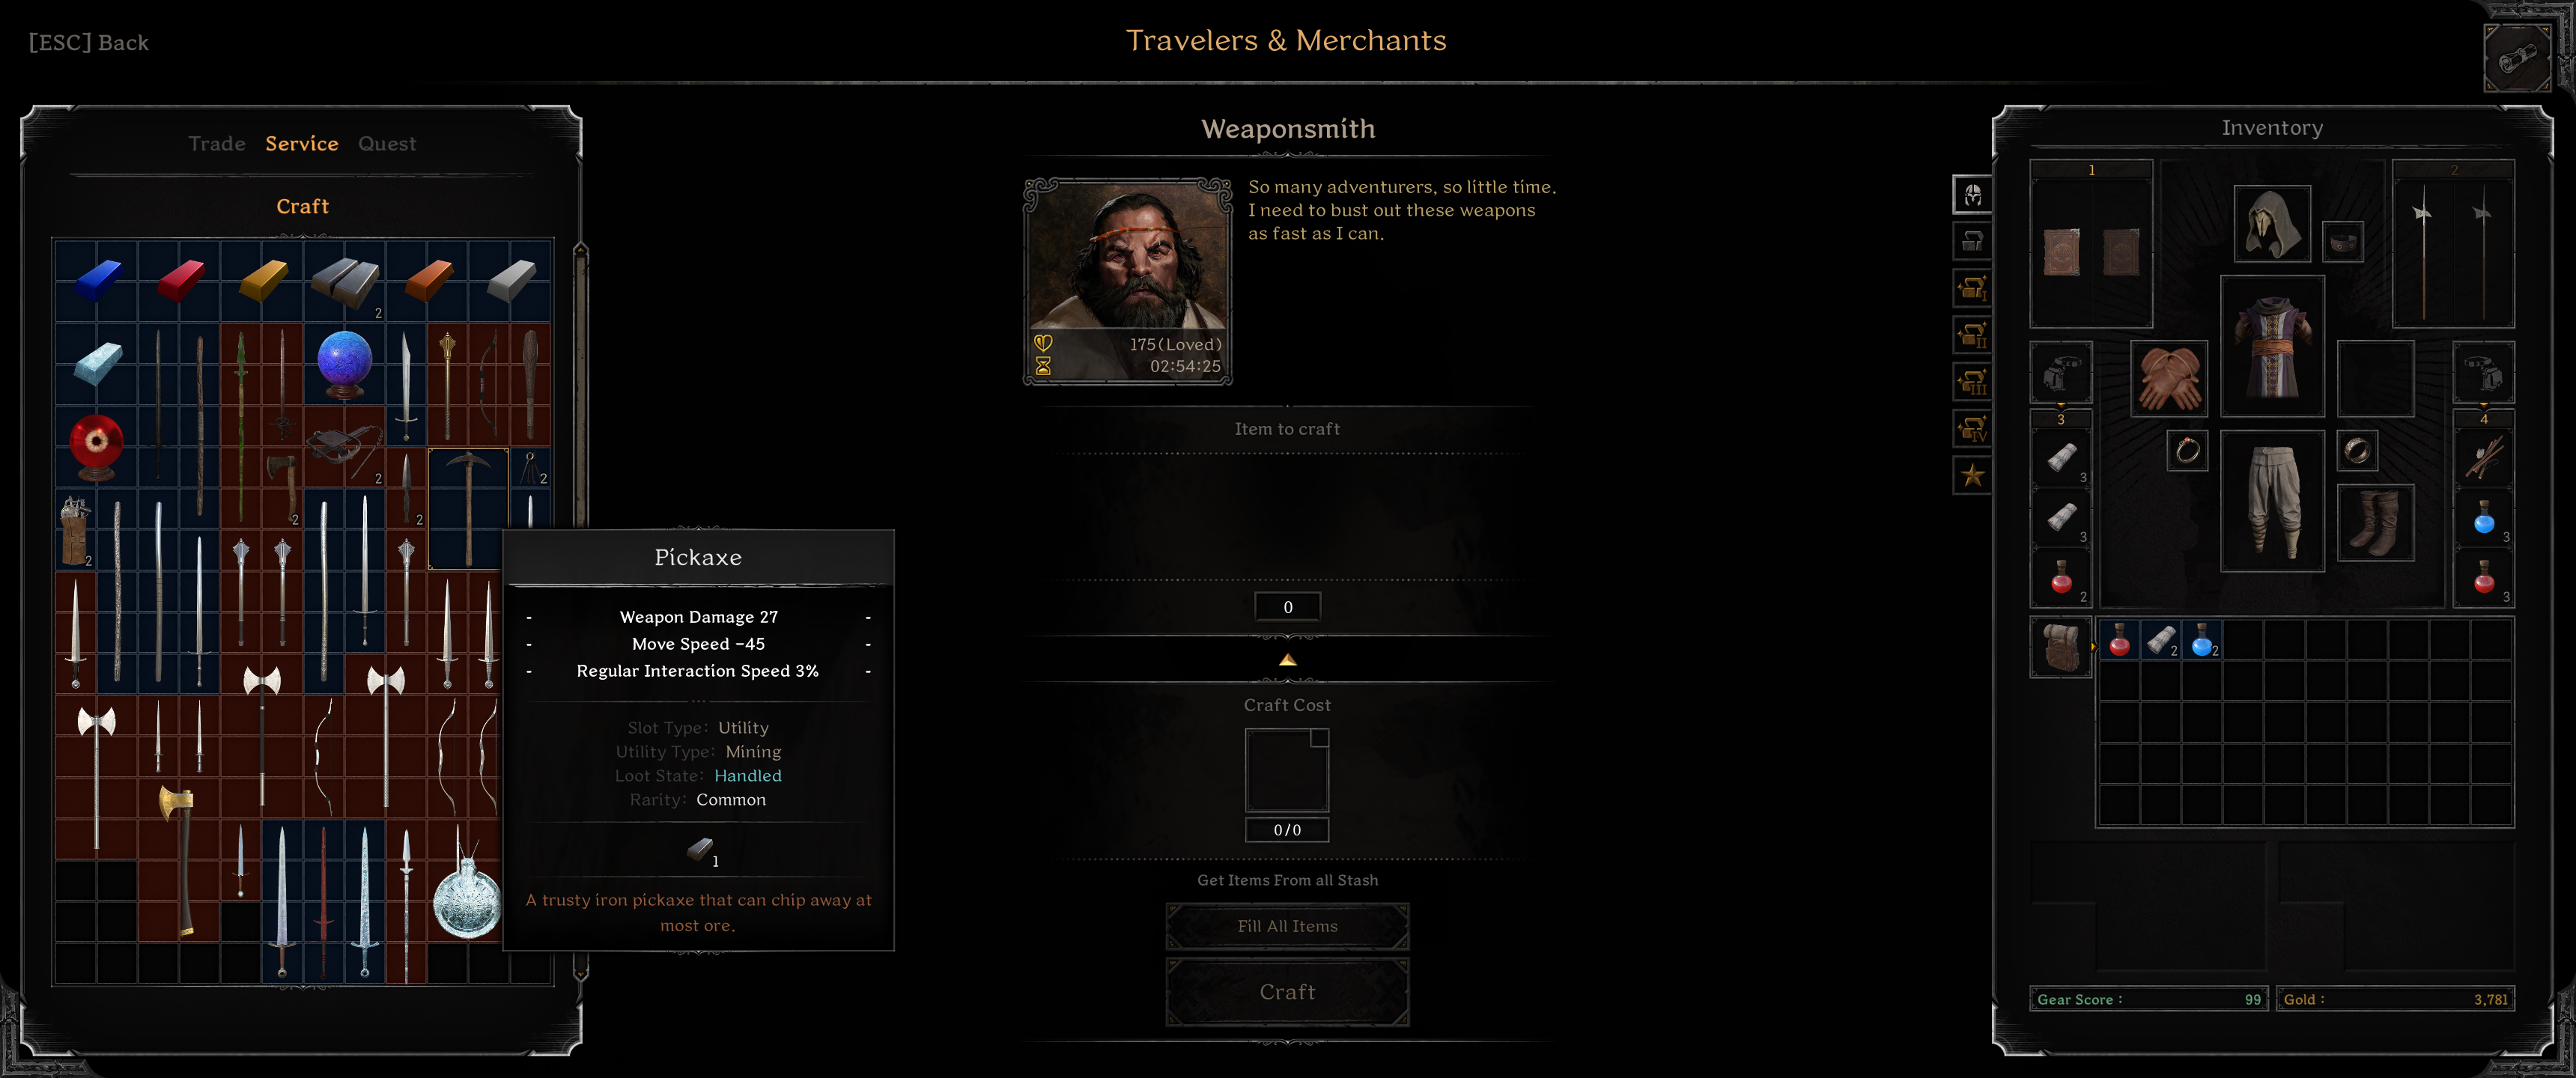Tooltip: (501, 527, 897, 953)
